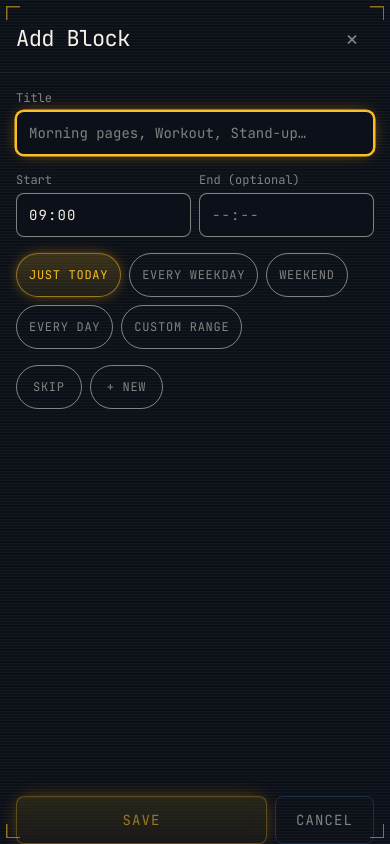
C-m2-008: Custom-range zero weekdays disables Save › shows weekday error and disables Save
The width and height of the screenshot is (390, 844).
Type "Foo" into the field labelled "Title" at [195, 133], box x1=16 y1=111 x2=374 y2=155
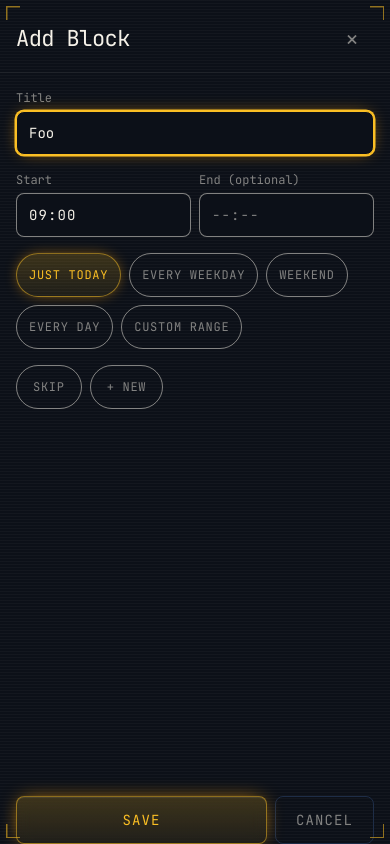
Click the radio button labelled "Custom range" at [182, 327], box x1=121 y1=305 x2=242 y2=349
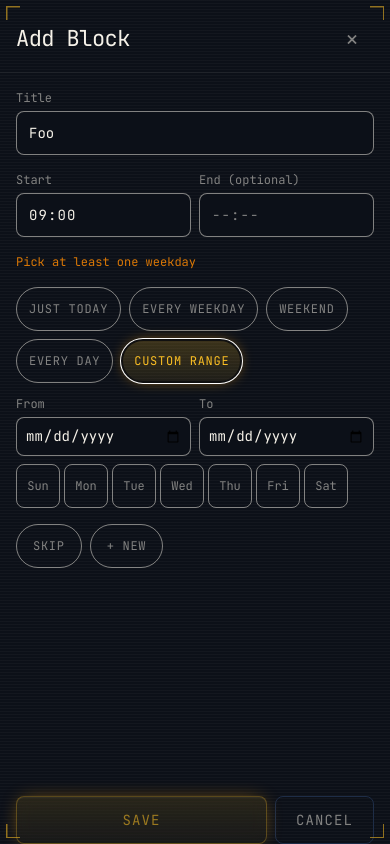
Check: the message shows "at least one weekday", box x1=16 y1=254 x2=196 y2=270
